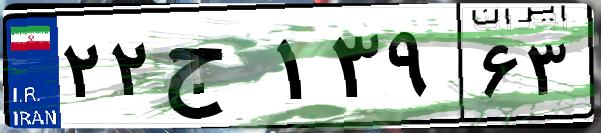1: (270, 28, 330, 110)
2: (57, 26, 110, 100), (110, 28, 158, 98)
3: (330, 28, 385, 110), (525, 38, 570, 115)
6: (475, 38, 525, 113)
9: (385, 28, 445, 110)
ج: (158, 20, 270, 120)
